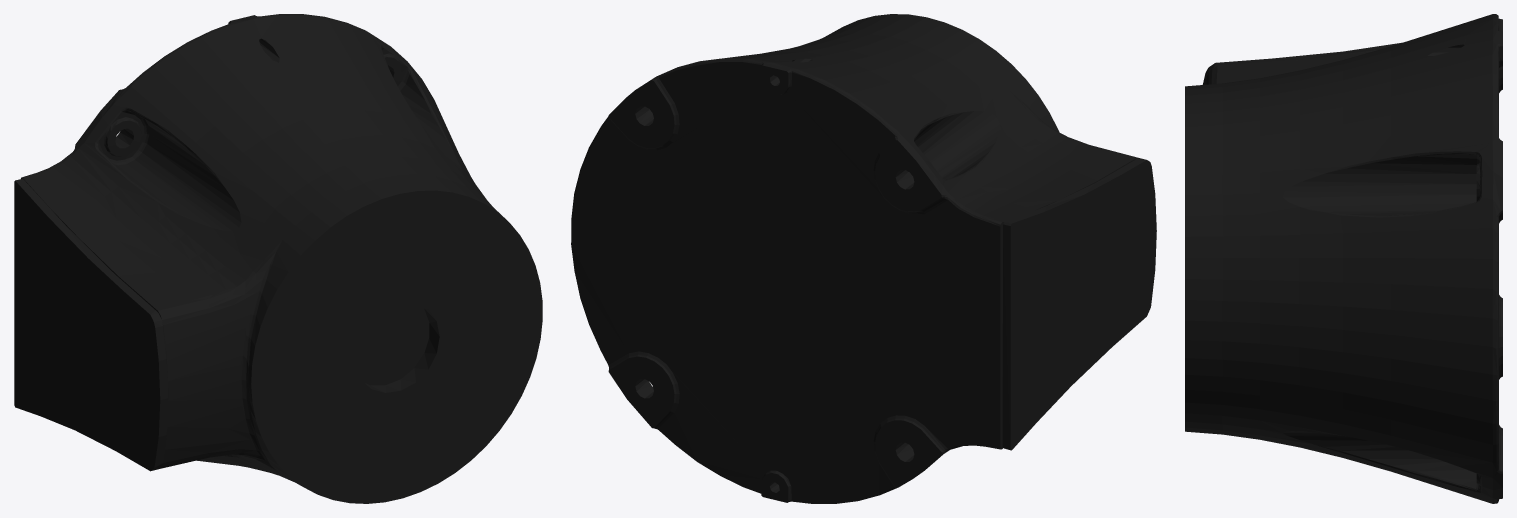
The picture shows the model from 3 angles, left to right: view 1: azimuth 30°, elevation 25°; view 2: azimuth 150°, elevation 25°; view 3: azimuth 270°, elevation 25°; orthographic projection. The views are drawn at different scales.
Parts seen in each view (by area): view 1: Link_0; view 2: Link_0; view 3: Link_0.
Part boxes in pixels (left/top/right/bottom): Link_0: left=14, top=14, right=542, bottom=503; Link_0: left=571, top=14, right=1156, bottom=503; Link_0: left=1185, top=14, right=1502, bottom=503.
Bounding box in the file's own units: 0.2573 × 0.2428 × 0.1575.
1 material, 1 textured.
